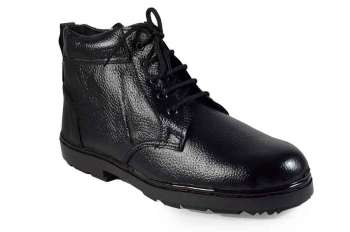Footwear: (56, 6, 318, 220)
